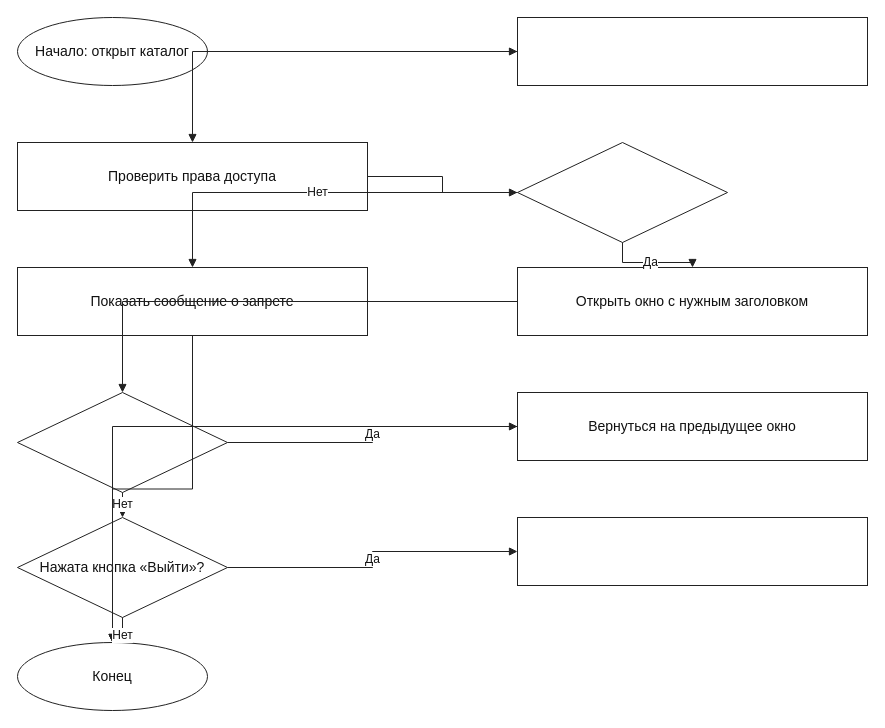
This 885x728 diagram has some shape labels left out. Each missing label, with the centre of its shape:
Вернуться к окну входа: [692,551]
Доступ разрешён?: [622,192]
Нажата кнопка «Назад»?: [122,442]
Пользователь выбирает пункт меню или кнопку: [692,51]
